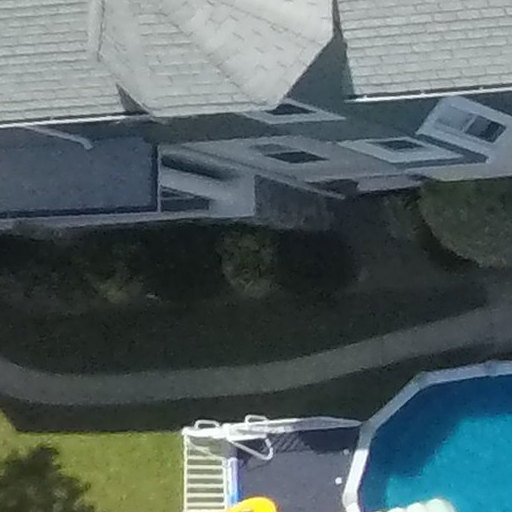pool: (345, 363, 511, 512)
